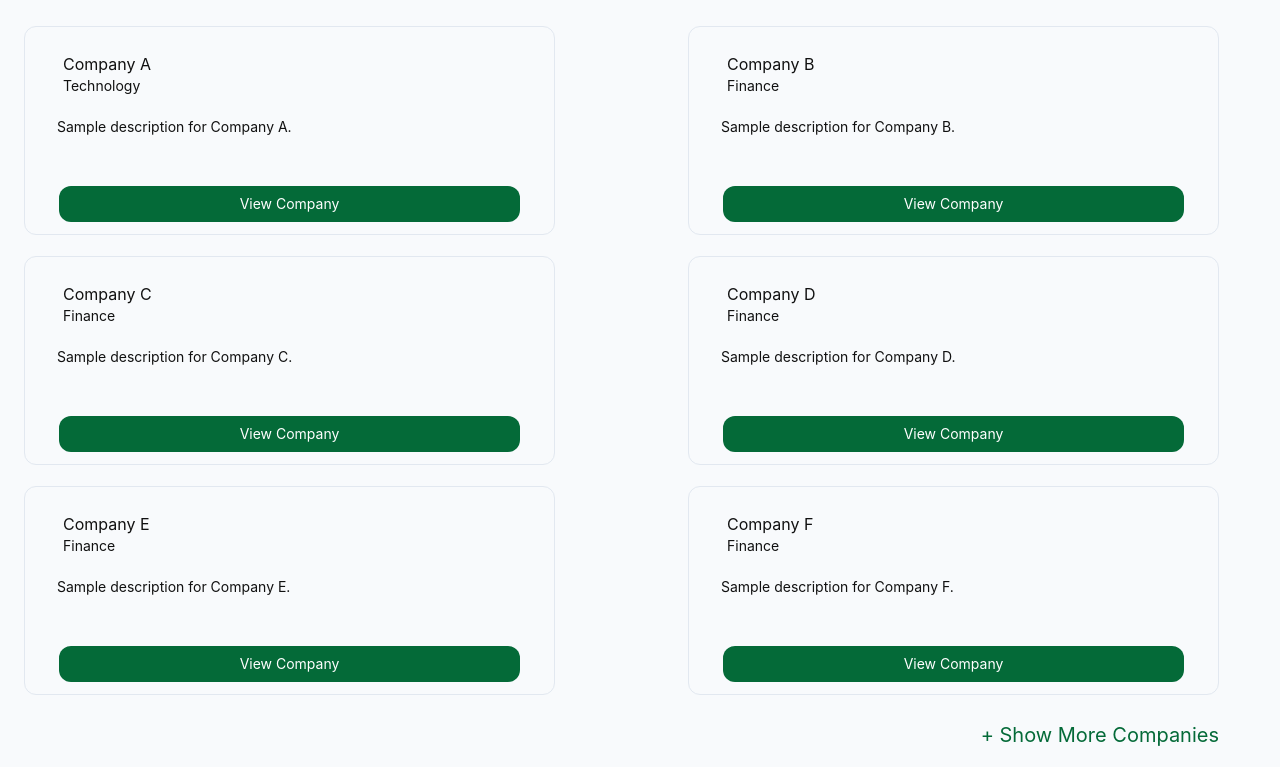
Scenario: ExploreCompanies › reveals the remaining companies with the show-more control
(page scrolled)
Click the button "+ Show More Companies" at (1100, 735), box [981,719,1219,751]
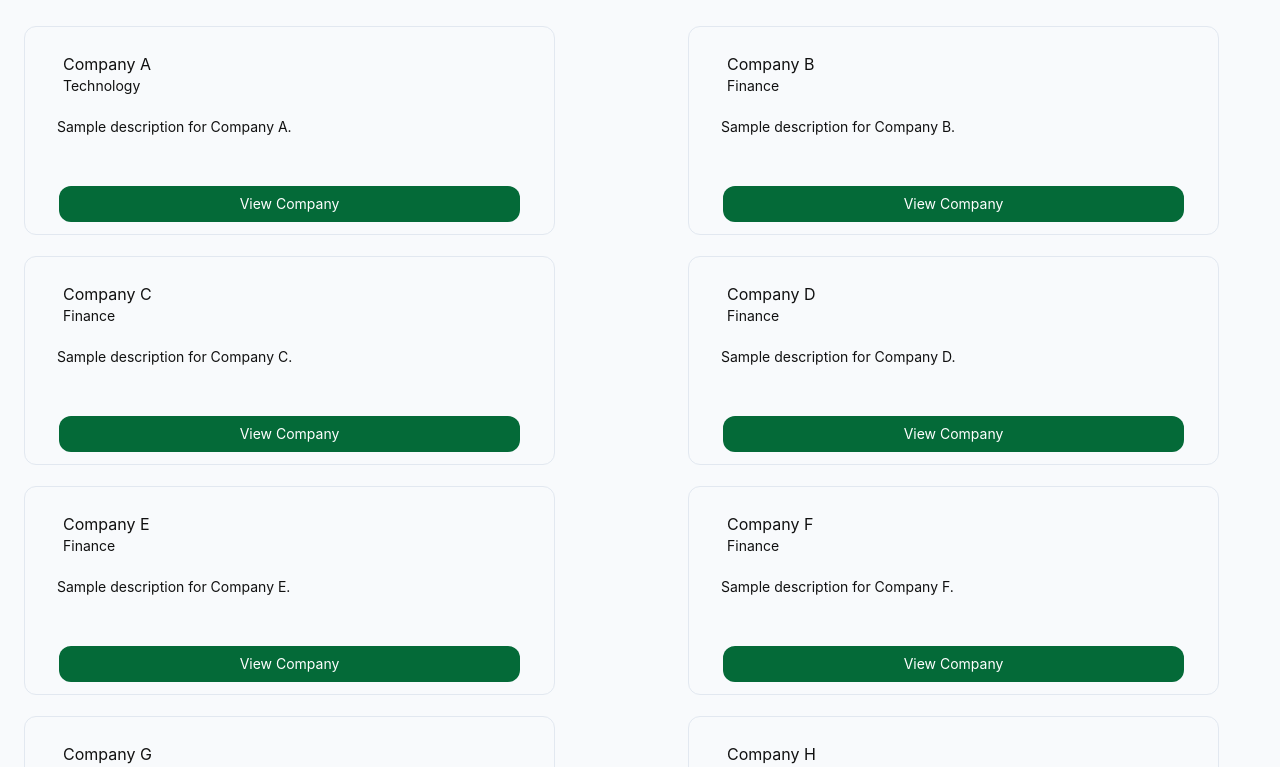
Check: the number of links is 9
